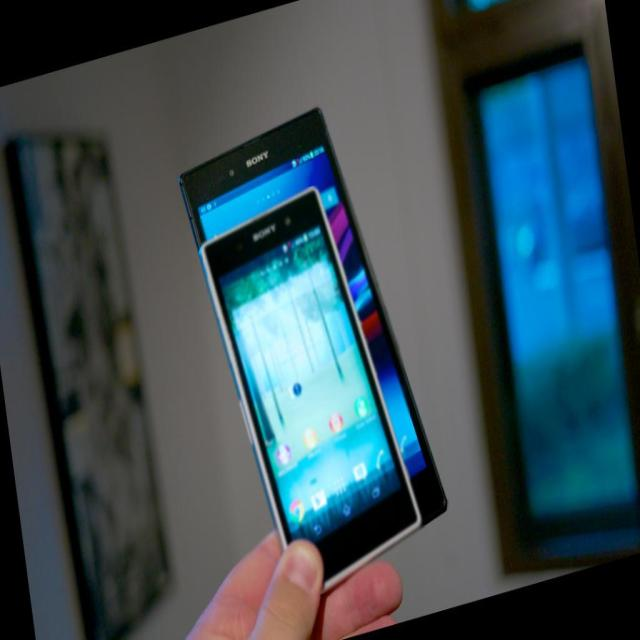handphone: (182, 108, 448, 569), (202, 195, 416, 558)
